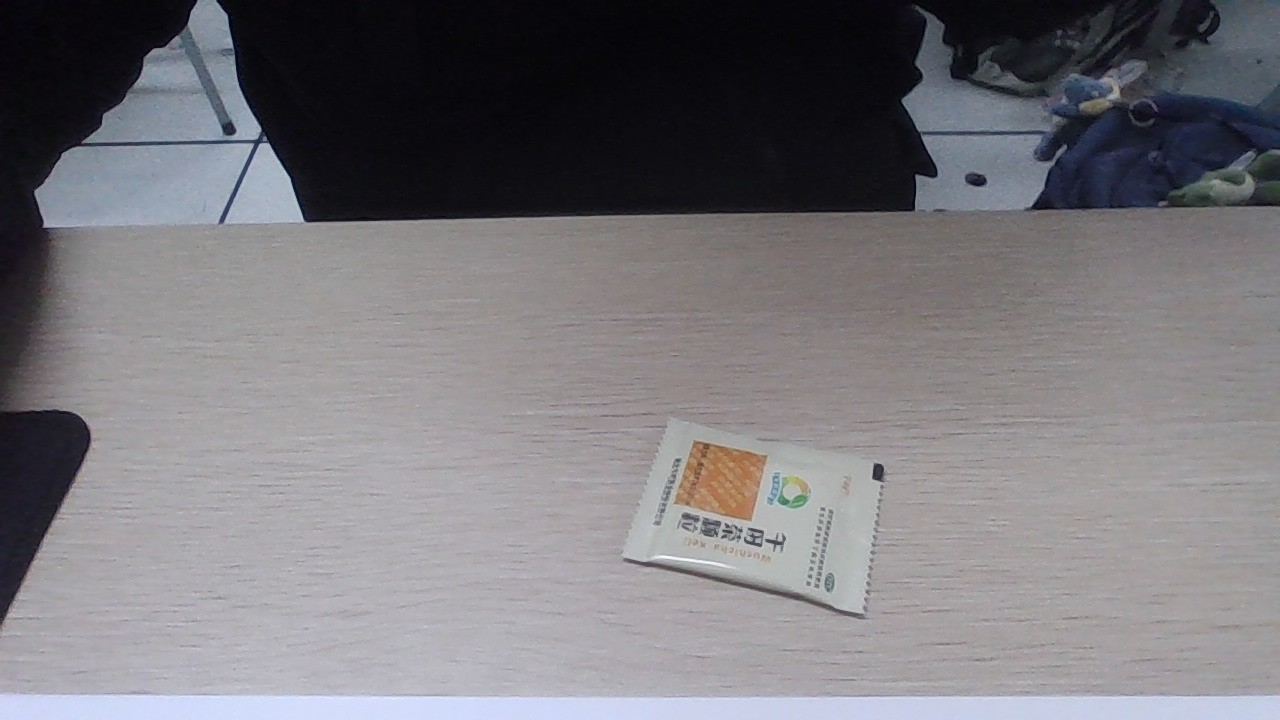YH-yellow medicine: (626, 424, 875, 613)
